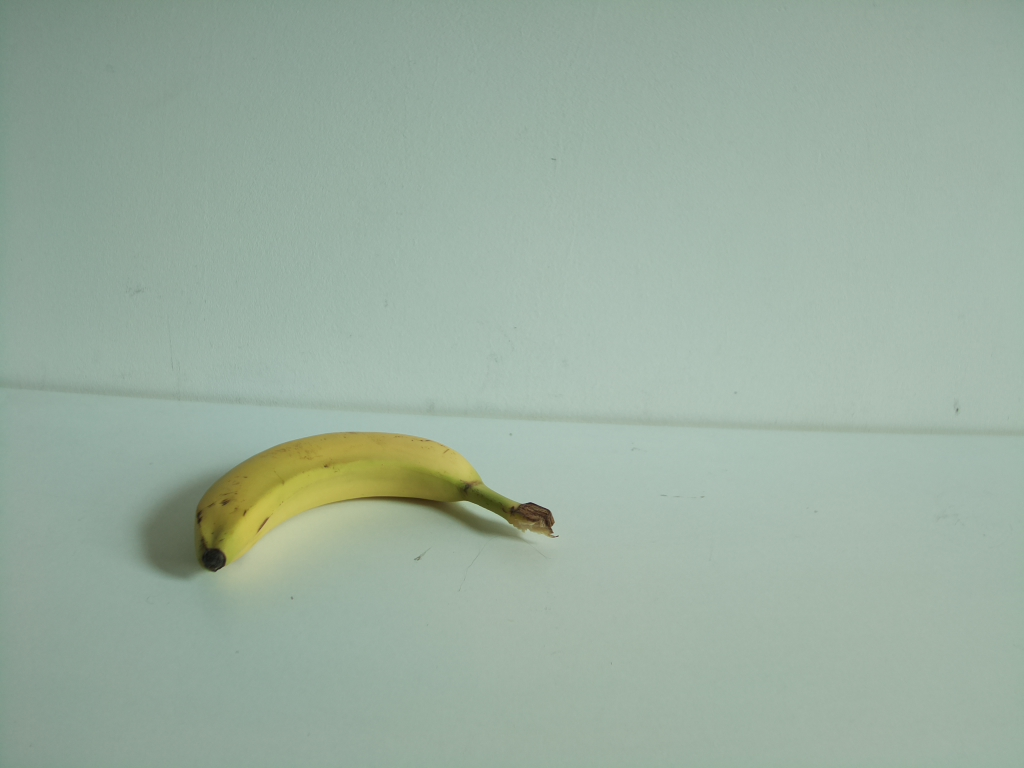banana: (194, 433, 559, 575)
